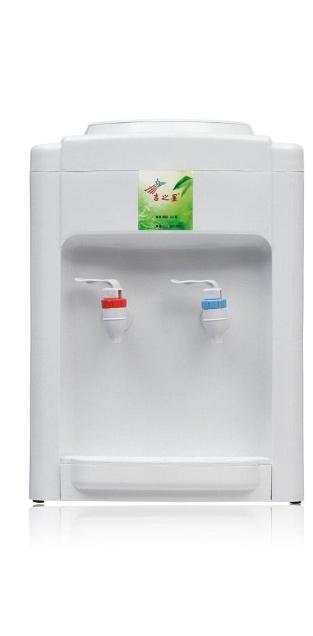Dispenser: (28, 120, 303, 502)
